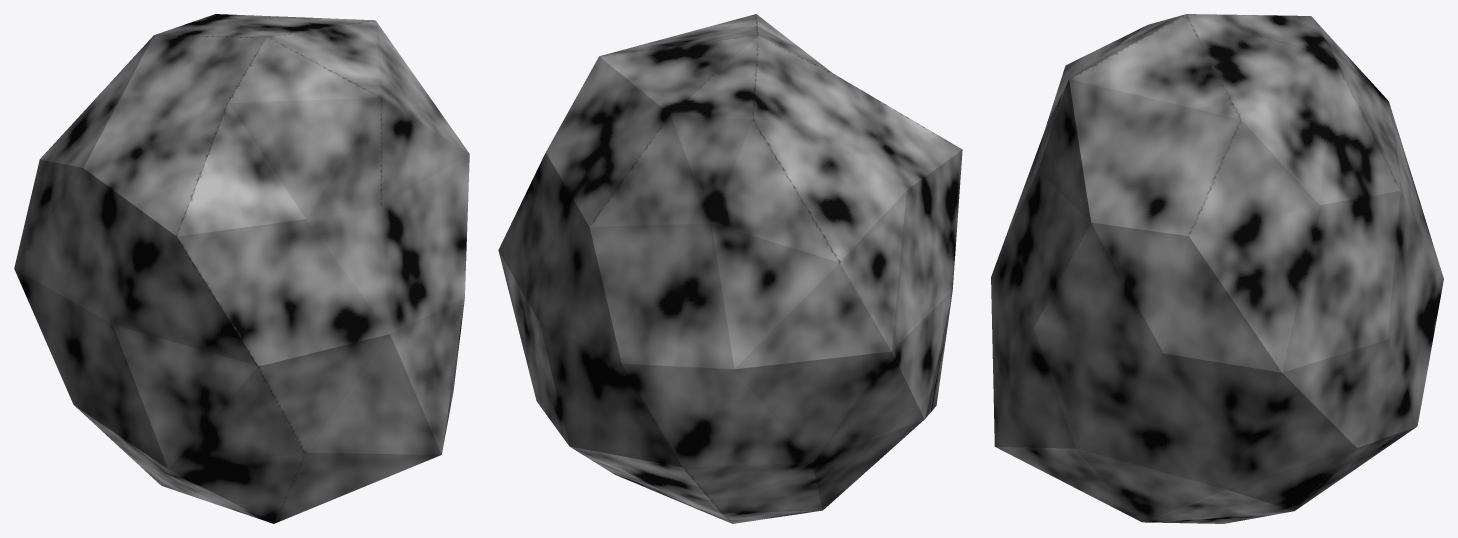
Rendered from bush_berry.glb.
The picture shows the model from 3 angles, left to right: view 1: azimuth 30°, elevation 25°; view 2: azimuth 150°, elevation 25°; view 3: azimuth 270°, elevation 25°; orthographic projection. The views are drawn at different scales.
Parts seen in each view (by area): view 1: bush_berry; view 2: bush_berry; view 3: bush_berry.
Boxes of the visible parts, bbox=[...] form: bush_berry: bbox=[14, 14, 469, 523]; bush_berry: bbox=[498, 14, 962, 523]; bush_berry: bbox=[991, 14, 1443, 523].
Bounding box in the file's own units: 1.47 × 1.65 × 1.34.
Materials: 1 (1 with a texture image).
